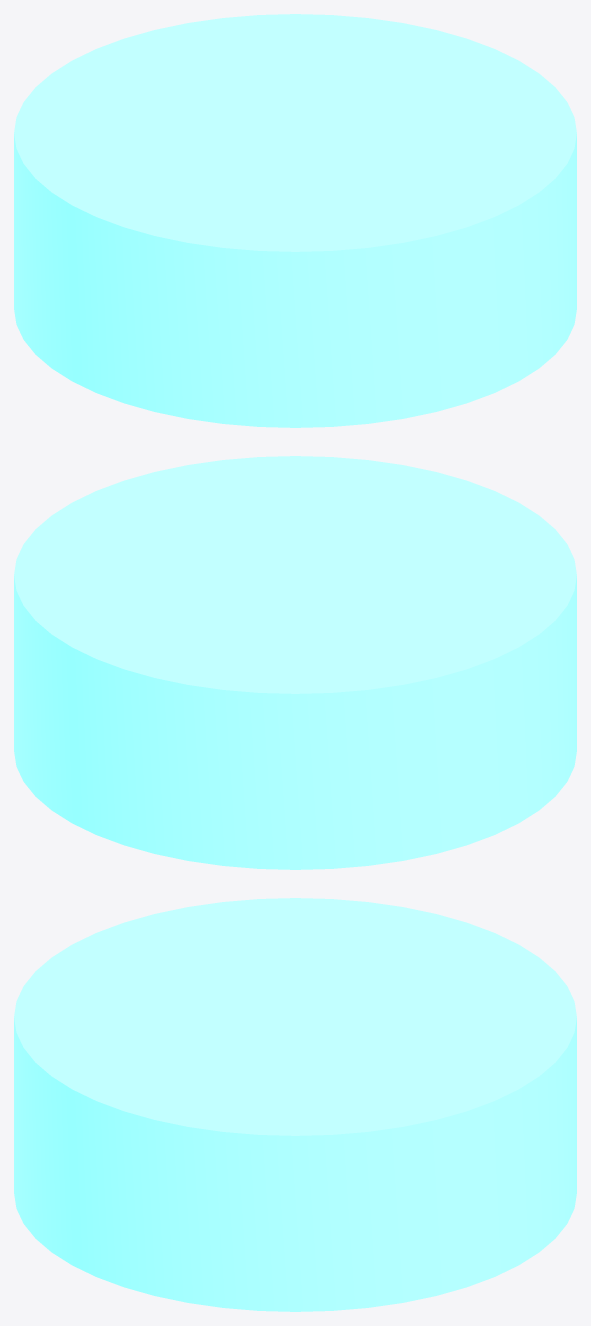
File: EM_GlowPlasma.fbx
The picture shows the model from 3 angles, top to bottom: view 1: azimuth 30°, elevation 25°; view 2: azimuth 150°, elevation 25°; view 3: azimuth 270°, elevation 25°; orthographic projection.
Parts seen in each view (by area): view 1: EM_GlowPlasma; view 2: EM_GlowPlasma; view 3: EM_GlowPlasma.
Boxes of the visible parts, bbox=[...] form: EM_GlowPlasma: bbox=[14, 14, 576, 427]; EM_GlowPlasma: bbox=[14, 456, 576, 869]; EM_GlowPlasma: bbox=[14, 898, 576, 1311].
Size of the model in its own units: 2 by 0.69 by 2.
